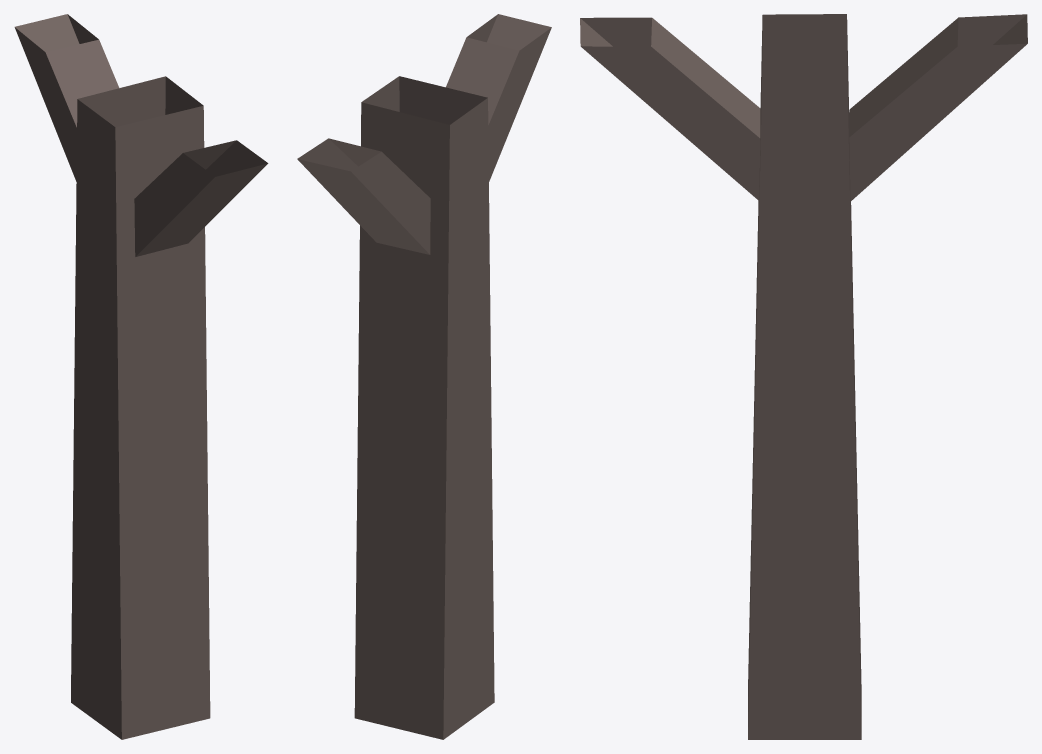
Rendered from MineBeam07.fbx.
3 views of the same model, side by side, from view 1: azimuth 30°, elevation 25°; view 2: azimuth 150°, elevation 25°; view 3: azimuth 270°, elevation 25° (orthographic). The views are drawn at different scales.
Parts seen in each view (by area): view 1: MineBeam07; view 2: MineBeam07; view 3: MineBeam07.
Boxes of the visible parts, bbox=[...] form: MineBeam07: bbox=[14, 14, 268, 739]; MineBeam07: bbox=[297, 14, 551, 739]; MineBeam07: bbox=[580, 14, 1027, 739].
Bounding box in the file's own units: 199 × 336 × 50.42.
